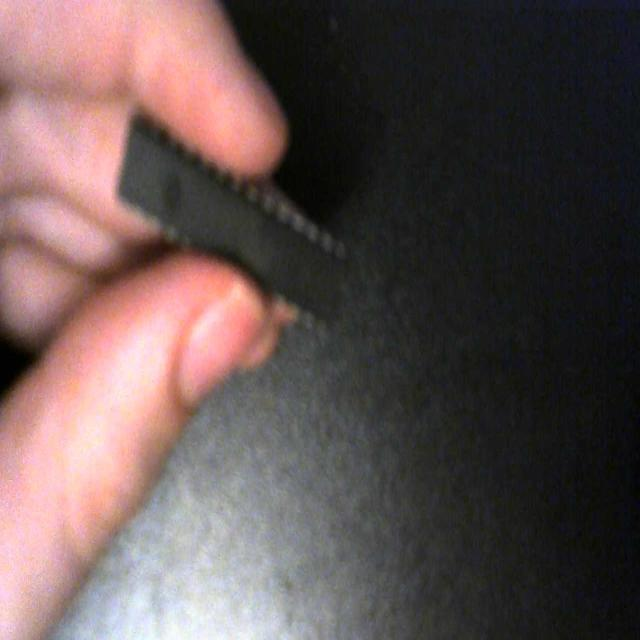atmega: (110, 77, 351, 349)
